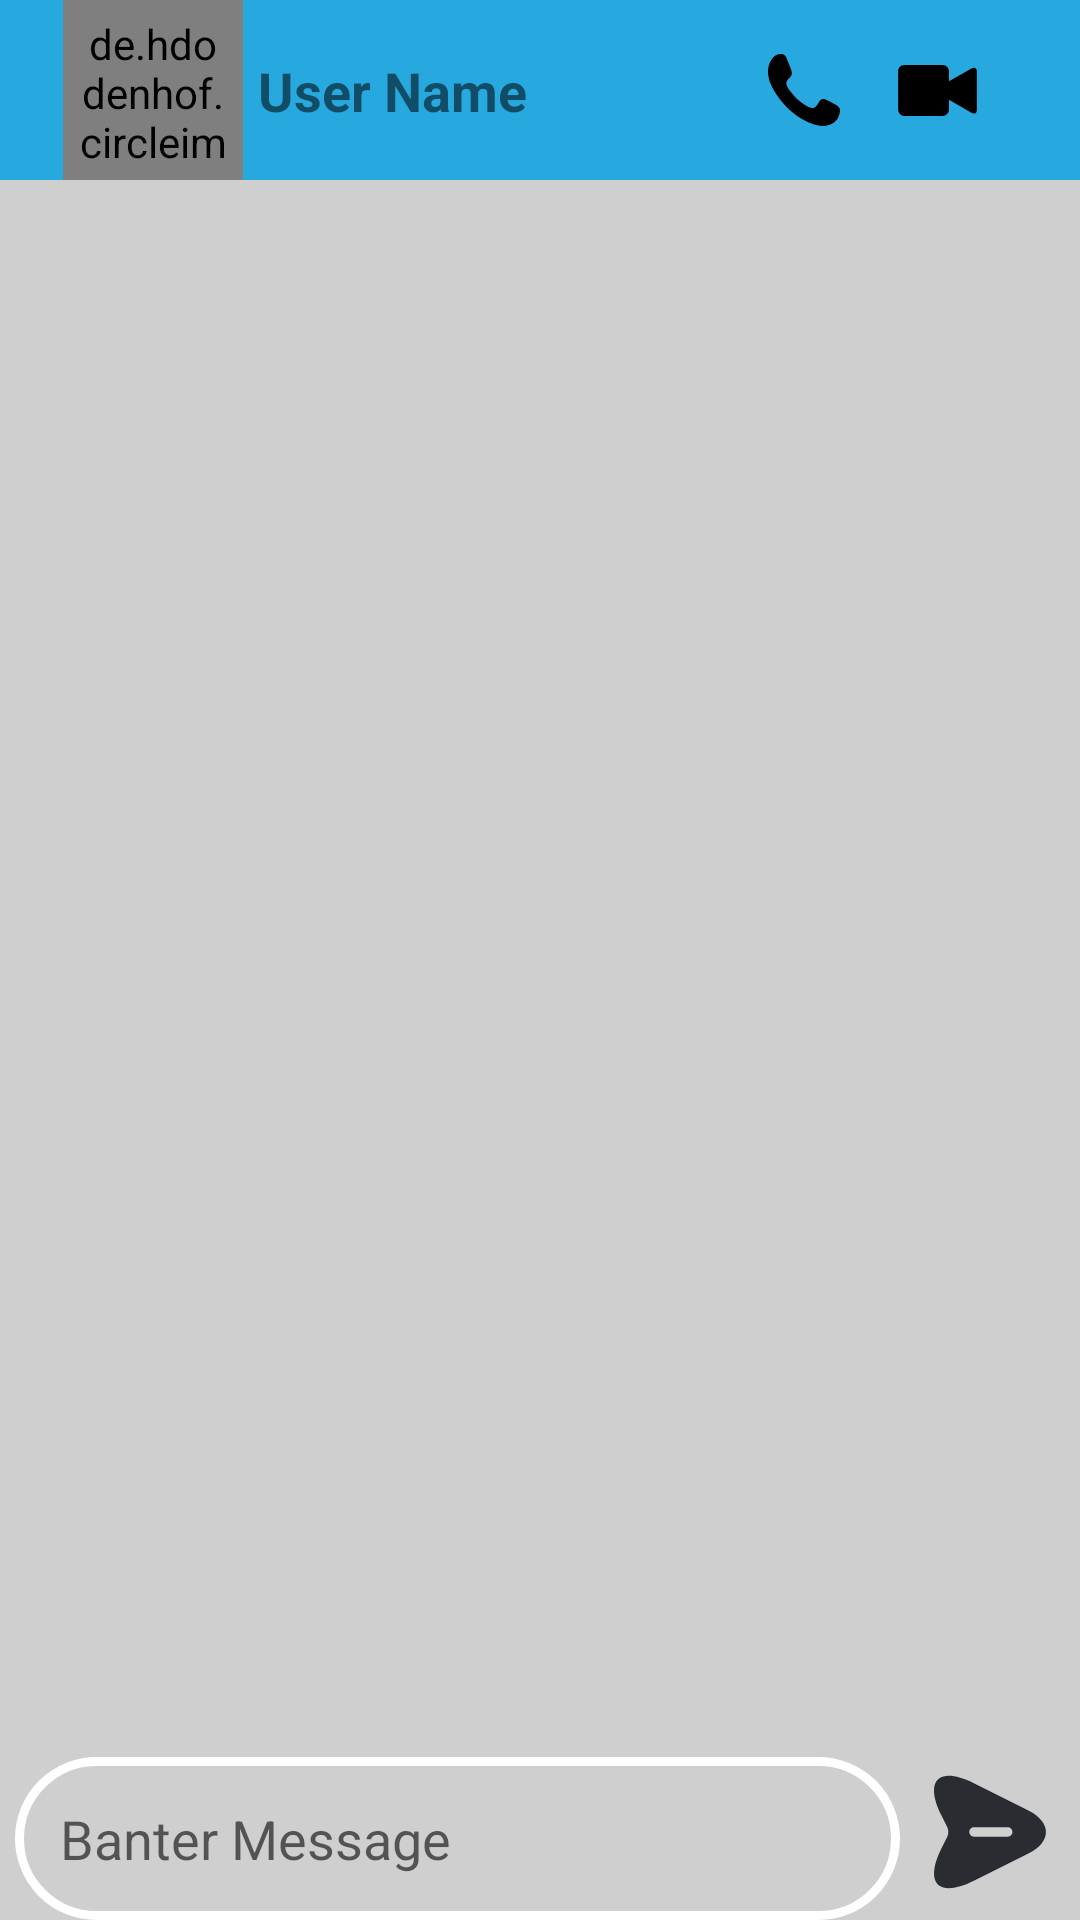

Named icons in this screenshot (1080px×1920px) and their bounding boxes, (x1, y1, x2, y2):
call: (768, 54, 840, 126)
send: (934, 1775, 1046, 1889)
video call: (898, 65, 977, 116)
